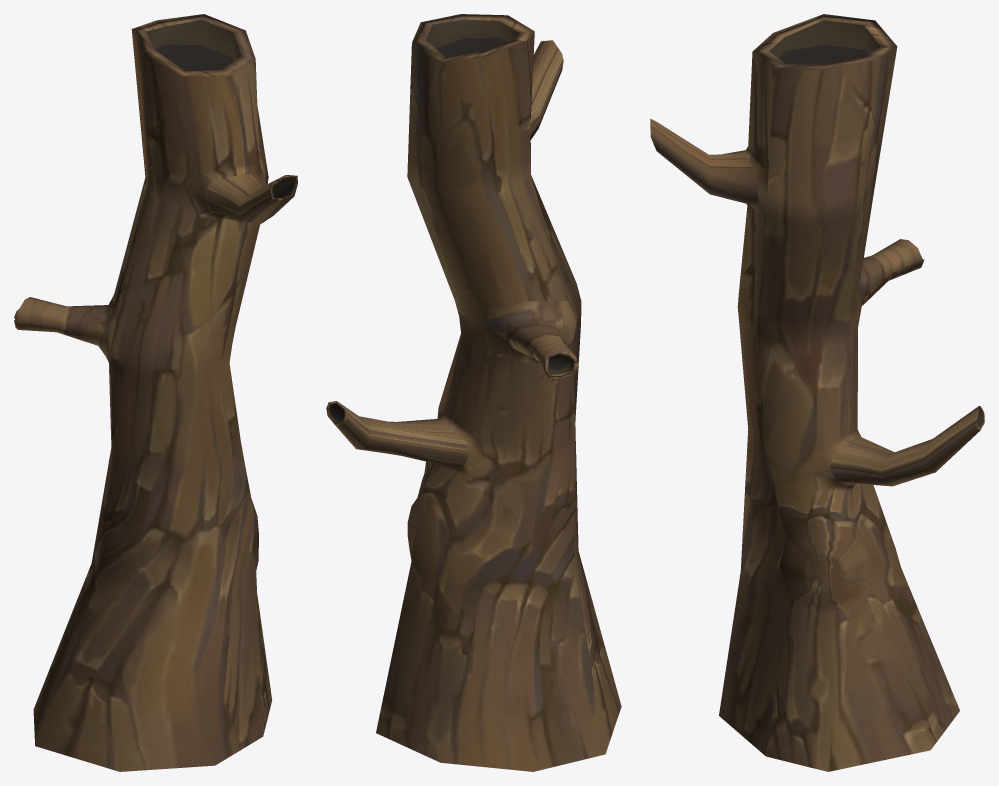
Rendered from Tronco C.fbx.
3 renders of one model, left to right at view 1: azimuth 30°, elevation 25°; view 2: azimuth 150°, elevation 25°; view 3: azimuth 270°, elevation 25°, orthographic.
Visible parts, largest first — view 1: pCylinder1; view 2: pCylinder1; view 3: pCylinder1.
Part boxes in pixels (x1,y1,x2,y2): pCylinder1: (14, 14, 297, 771); pCylinder1: (326, 14, 621, 771); pCylinder1: (650, 14, 984, 771).
Bounding box in the file's own units: 3.78 × 10.99 × 4.78.
